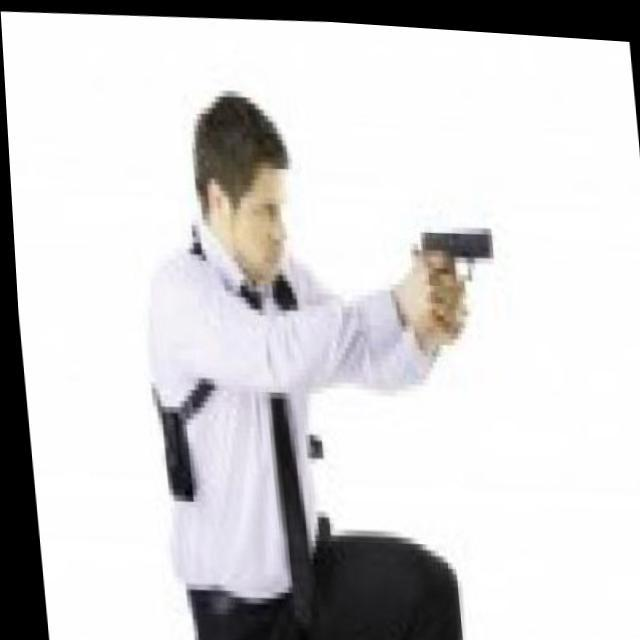weapon: (390, 208, 515, 344)
